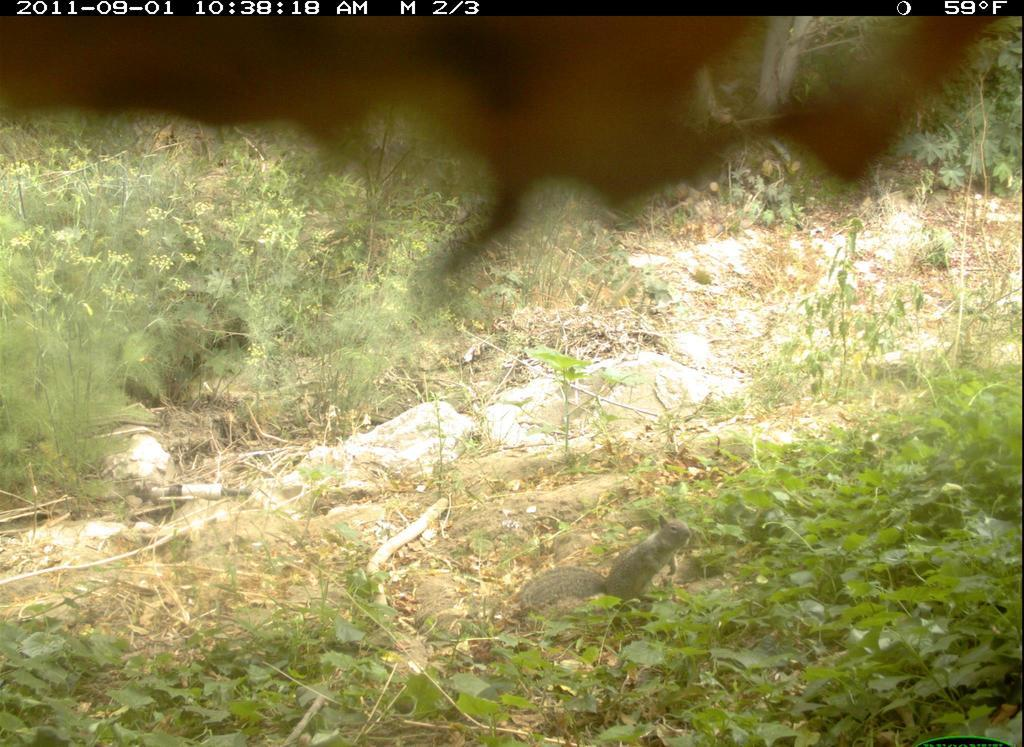squirrel: (504, 505, 709, 632)
